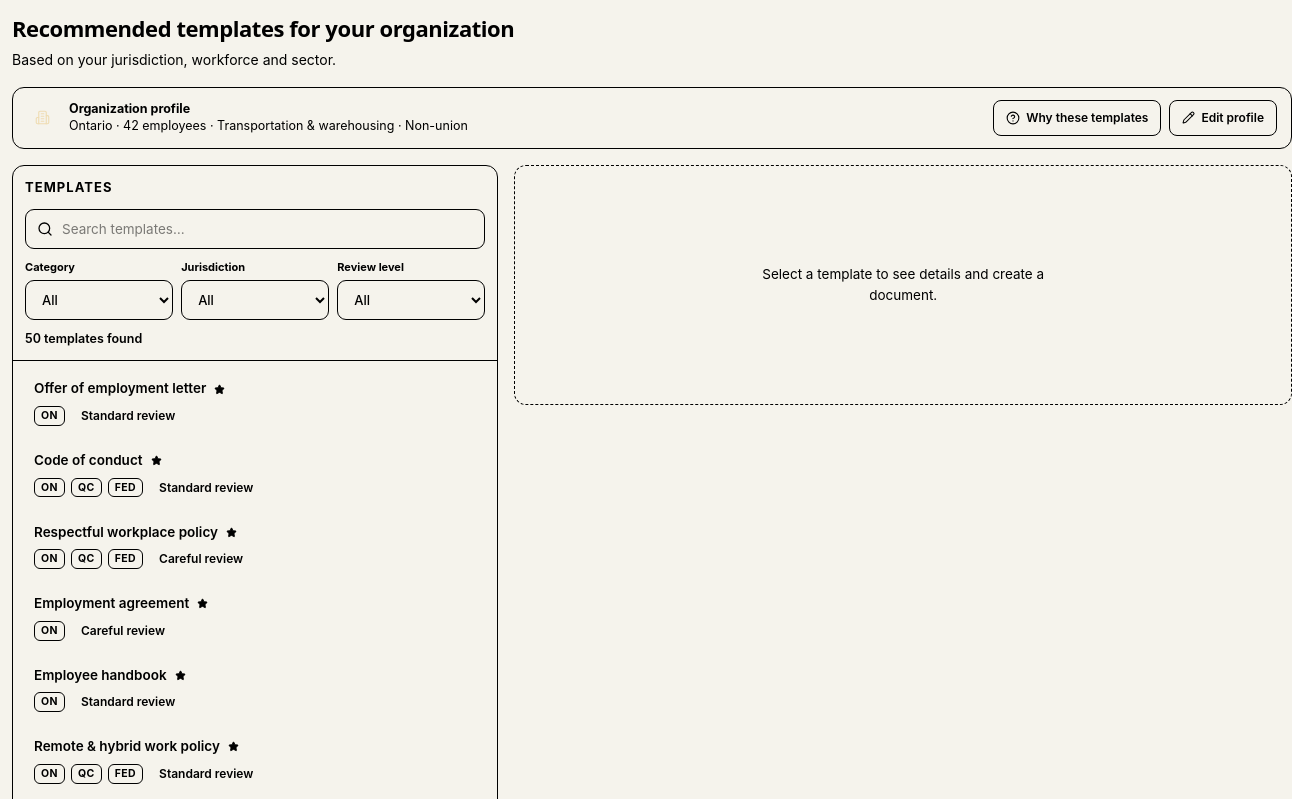
Test: StudioScreen › exposes labelled filters and narrows results by search
Expected: the text "Offer of employment letter" is shown, [34,380,206,398]
Expected: the dropdown labelled "Category" is shown, [25,280,173,320]
Type "offer" into the field with placeholder "Search templates…". click: [255, 229]
box: [25,209,485,249]
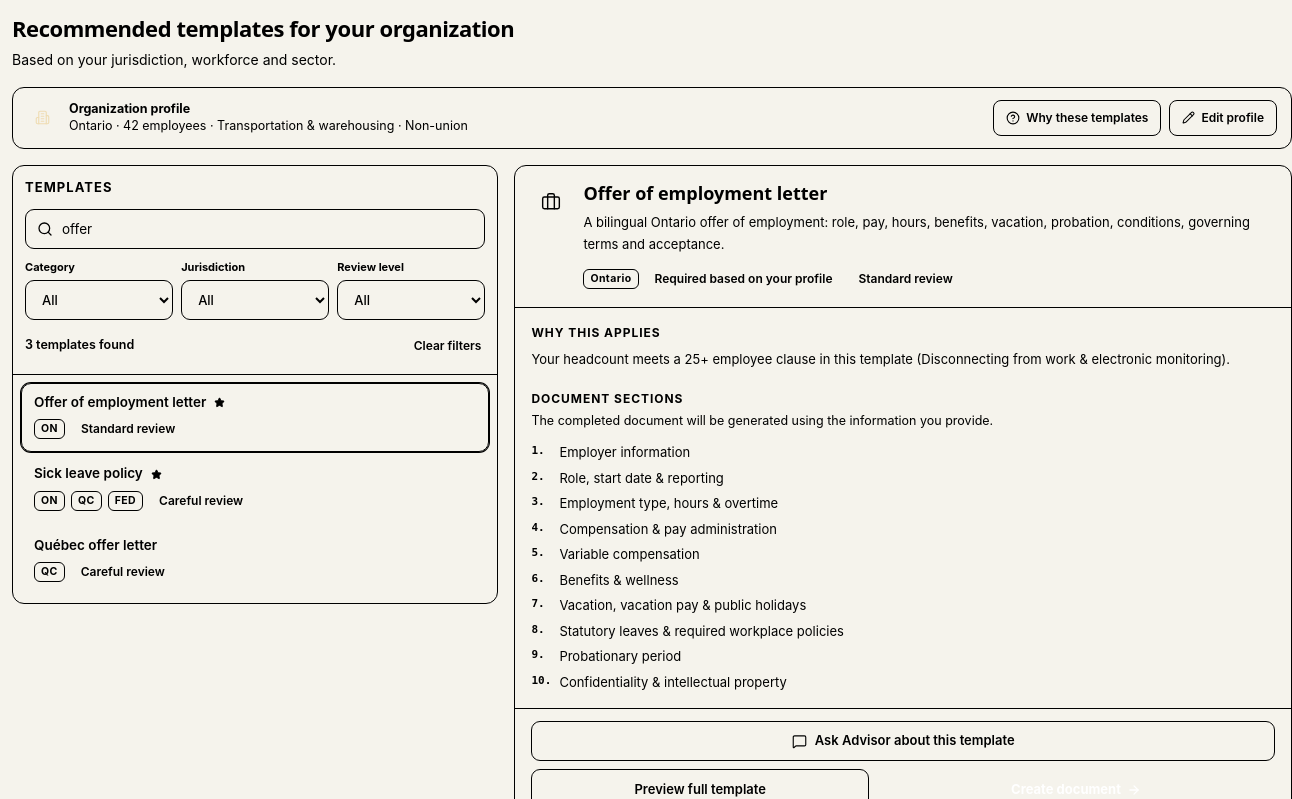
Result: the number of options is 3 at [21,383,489,452]; [21,454,489,524]; [21,526,489,595]
